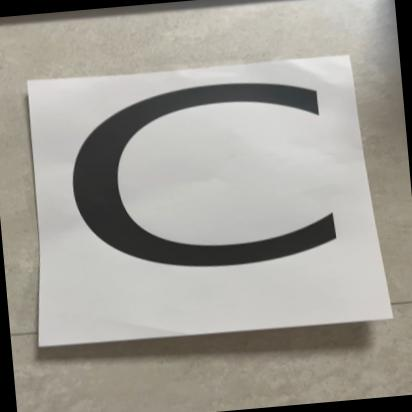seat: (26, 54, 390, 340)
